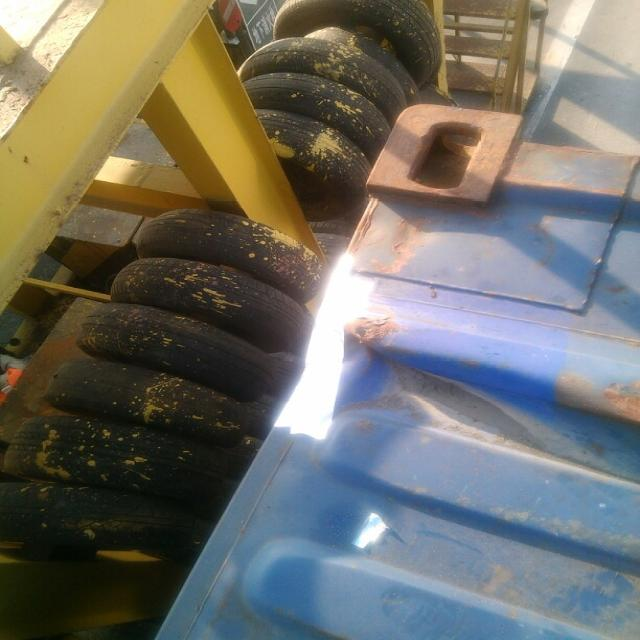dent: (318, 303, 640, 494)
